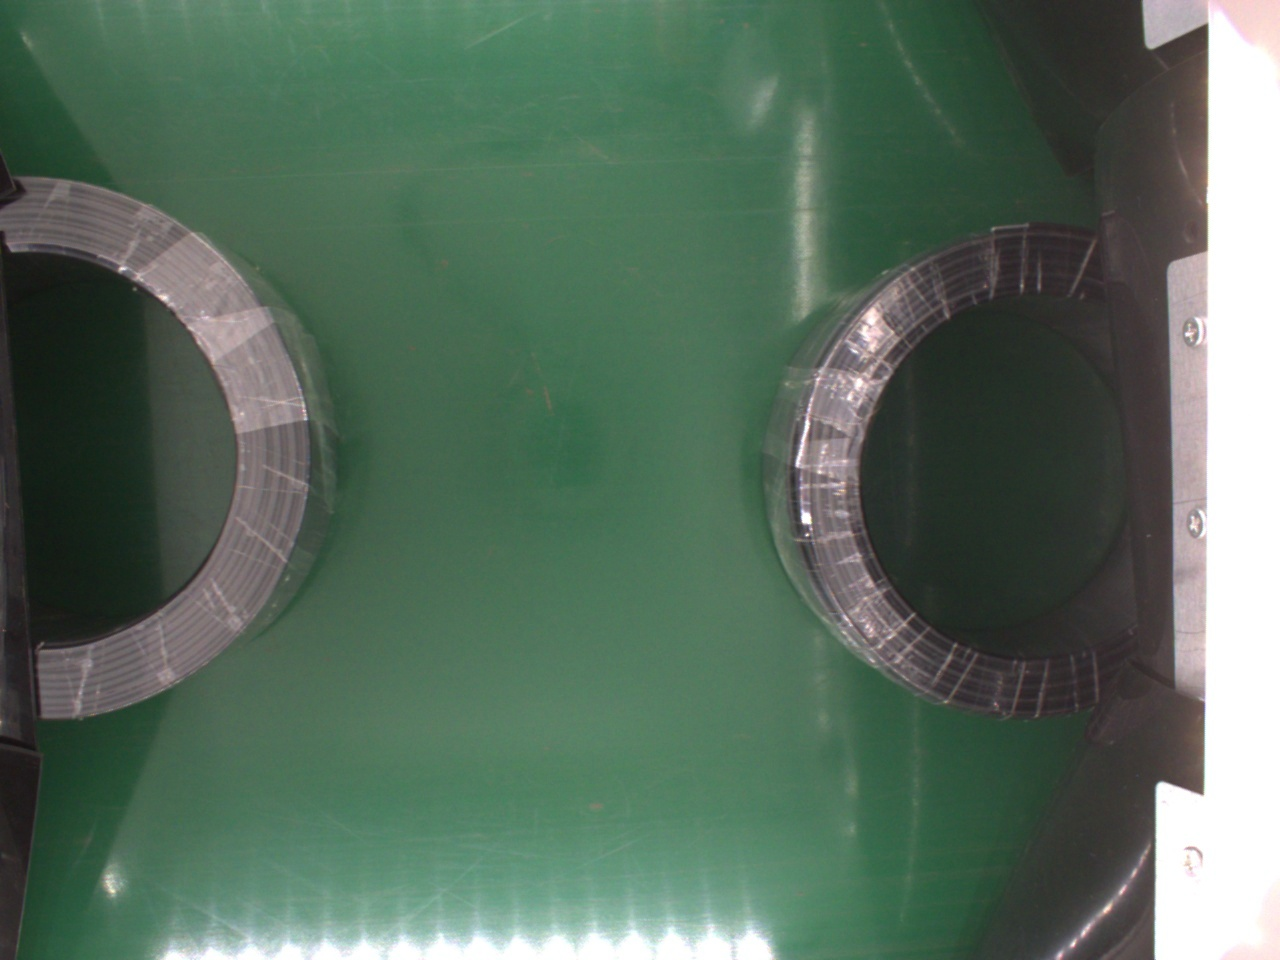black: (757, 225, 1159, 722), (13, 172, 322, 724)
